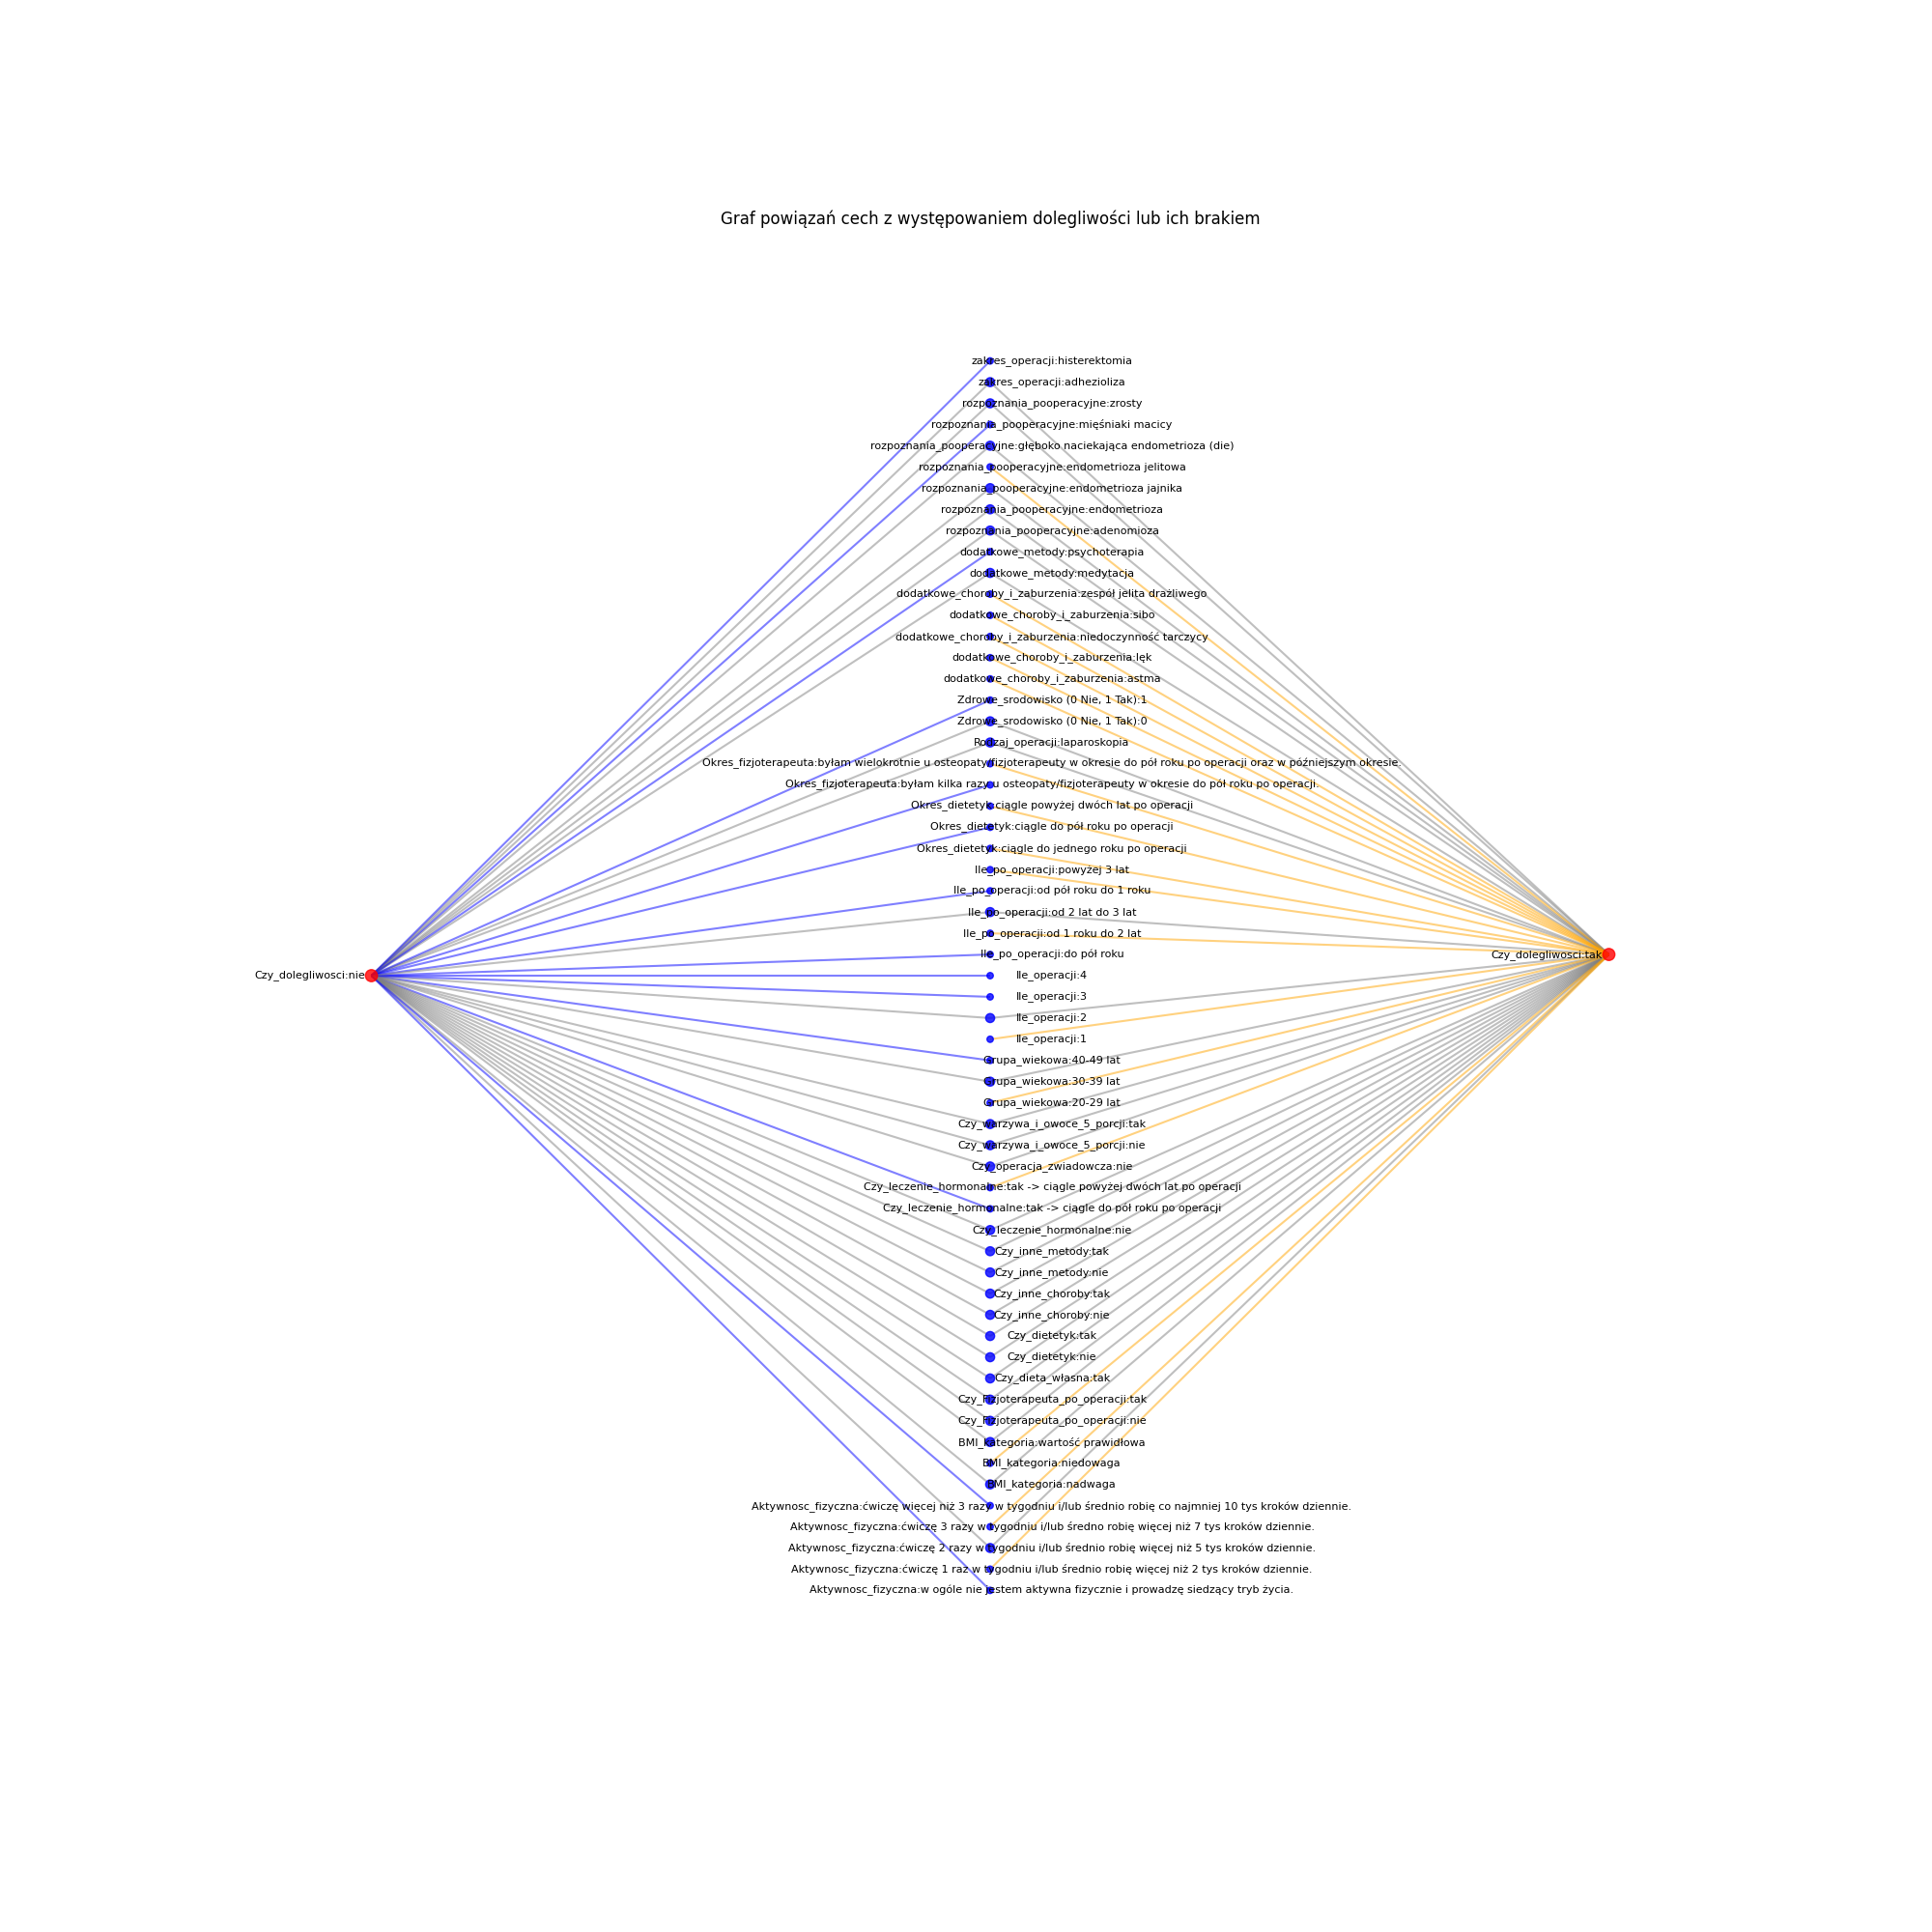

The page's visual inventory and layout, read from the dashboard file:
{"tool":"powerbi","page":{"name":"Grafy powiązań","canvas":[1280,720],"ordinal":3},"visuals":[{"type":"pythonVisual","fields":{"Values":["rules_all_columns.consequents","rules_all_columns.antecedents"]},"box":[9.7,0,707.1,719.8],"z":0},{"type":"textbox","box":[1,0,198.4,188.7],"z":1000},{"type":"pythonVisual","fields":{"Values":["rules_all_columns (2).antecedents","rules_all_columns (2).consequents"]},"box":[661.4,0,618.6,719.8],"z":2000},{"type":"textbox","box":[548.9,0,253.9,166],"z":3000}]}

Visuals, with their boxes on the page's 1280x720 design canvas (x1, y1, x2, y2). These are canvas units, not pixel positions in the 1932x1932 screenshot, which may show the page scaled, cropped or inside an application window:
pythonVisual - rules_all_columns.consequents x rules_all_columns.antecedents: 10:0:717:720
textbox: 1:0:199:189
pythonVisual - rules_all_columns (2).antecedents x rules_all_columns (2).consequents: 661:0:1280:720
textbox: 549:0:803:166
